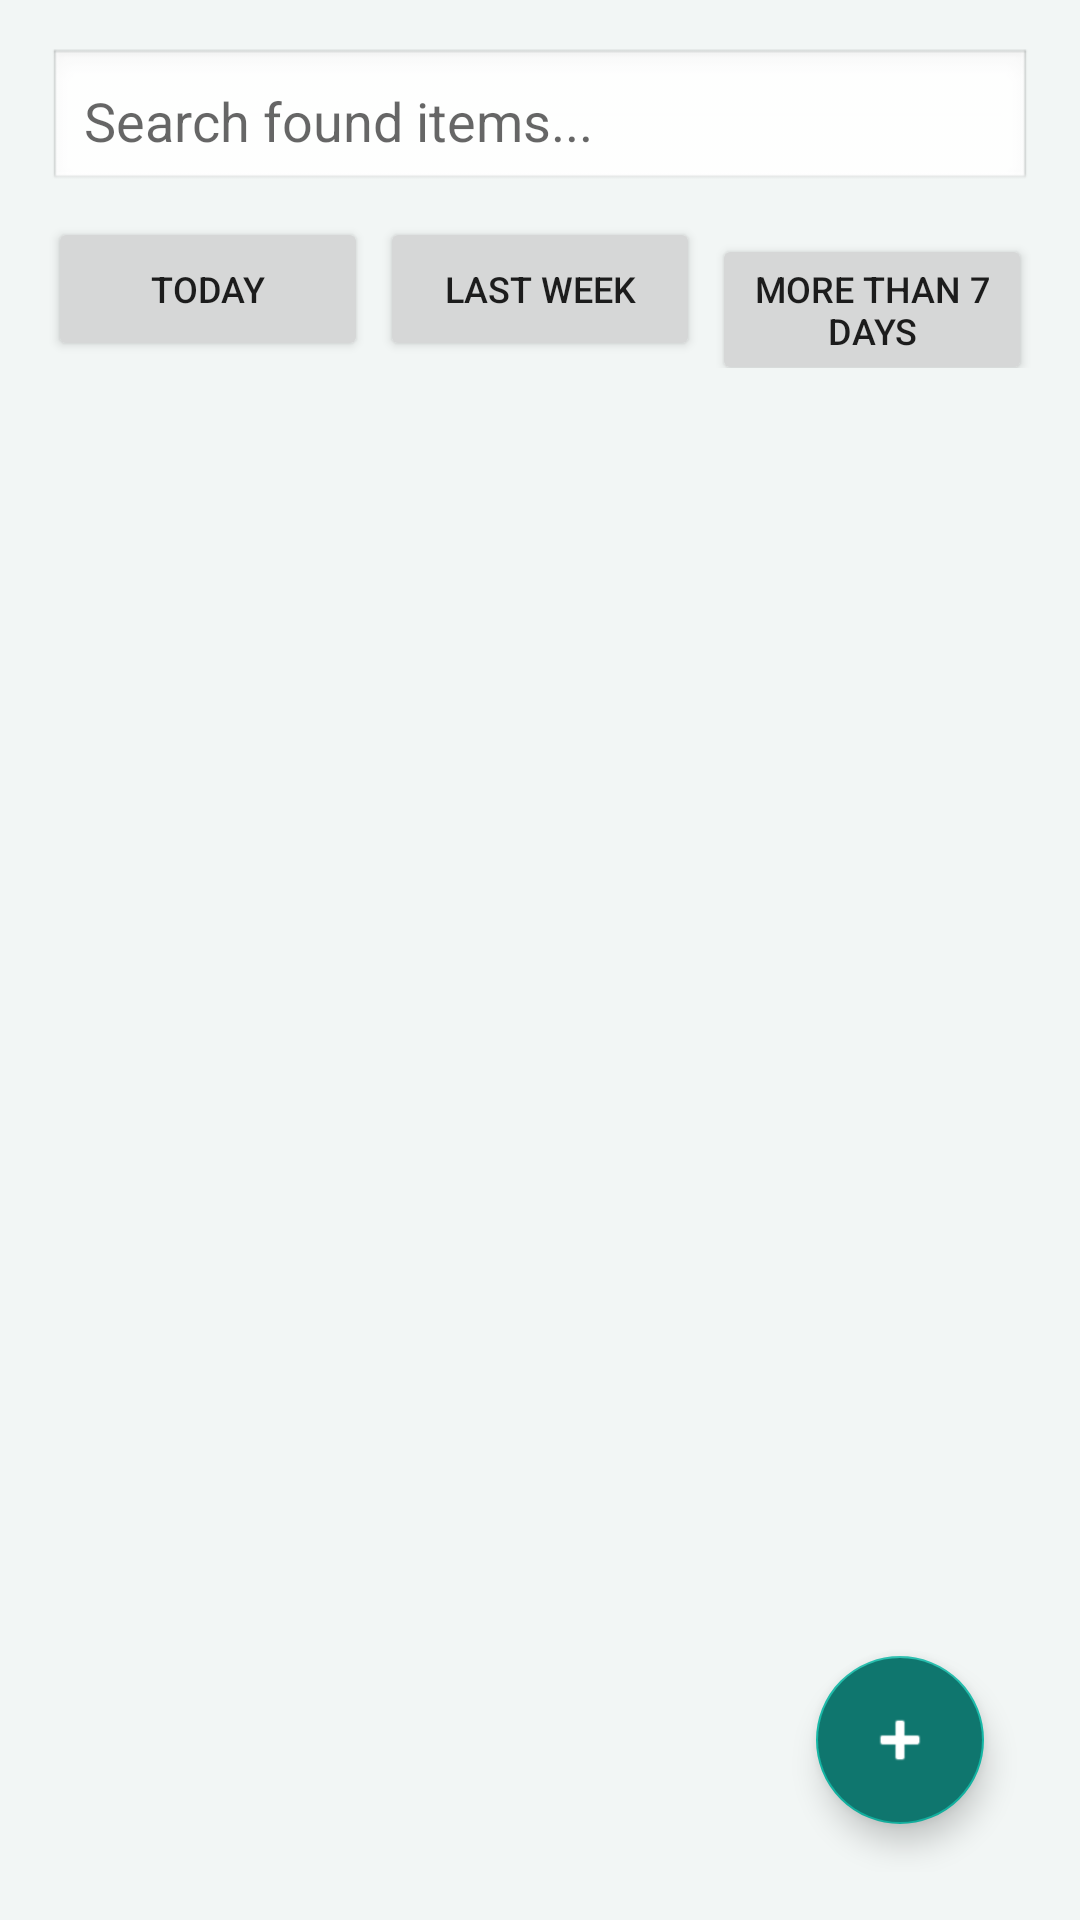

Icon click points for this 1080px x 1920px phone screenshot, format point (x, y):
Add item: point (900, 1740)
